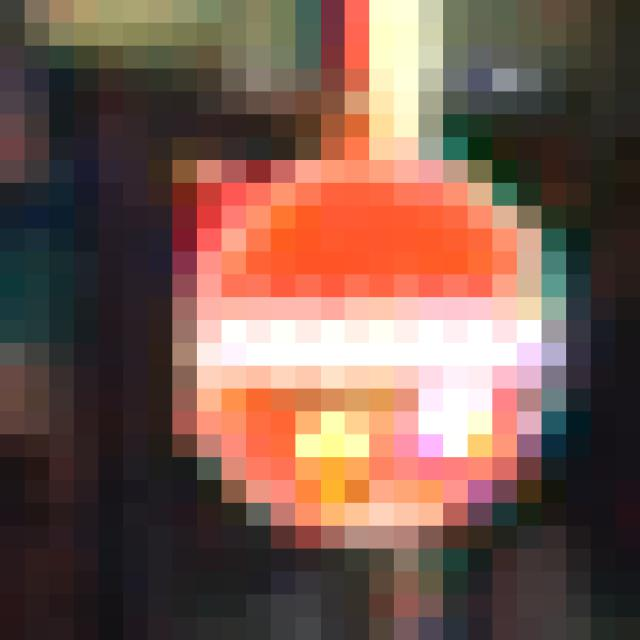No Entry: (124, 115, 518, 527)
